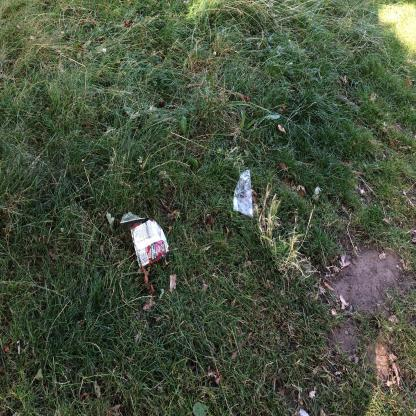plastik: (131, 219, 171, 269), (234, 171, 254, 220)
